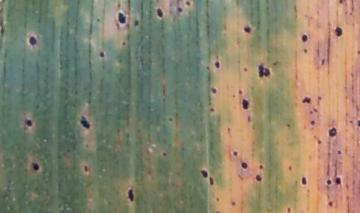tarspot: (259, 64, 270, 77), (80, 115, 90, 129), (117, 10, 127, 24), (327, 126, 337, 138), (239, 160, 249, 171), (241, 98, 250, 110), (334, 25, 343, 37), (28, 36, 37, 47), (127, 188, 134, 202), (156, 7, 164, 19), (301, 95, 311, 104), (242, 25, 253, 33), (24, 118, 33, 127), (323, 178, 332, 187), (32, 162, 40, 172), (254, 173, 262, 183), (318, 56, 326, 66), (160, 149, 168, 158), (200, 169, 208, 178), (334, 176, 342, 185), (208, 177, 215, 187), (302, 31, 308, 42), (301, 176, 307, 186), (246, 113, 252, 123), (82, 165, 89, 173), (132, 20, 140, 27), (176, 5, 183, 13), (184, 1, 192, 8), (210, 87, 217, 95), (301, 47, 309, 54), (309, 119, 316, 127), (215, 61, 221, 70), (98, 51, 105, 58), (120, 40, 127, 47), (242, 66, 249, 73), (287, 164, 293, 172), (327, 200, 333, 208), (167, 117, 174, 123), (209, 106, 215, 113), (232, 150, 238, 157), (286, 206, 292, 213), (237, 88, 243, 95), (336, 148, 342, 155), (348, 118, 354, 125), (95, 16, 101, 22), (258, 163, 264, 169), (313, 105, 317, 114), (231, 200, 236, 207), (357, 118, 360, 128), (317, 139, 322, 145), (317, 95, 322, 101), (308, 109, 314, 114), (356, 49, 360, 56), (286, 123, 291, 128), (338, 1, 344, 5)
